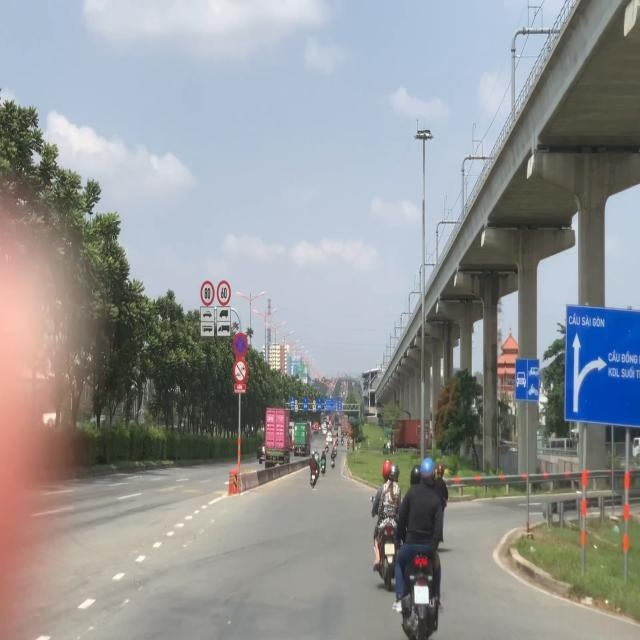bien_nguy_hiem: (216, 280, 232, 306), (233, 332, 248, 358), (200, 280, 215, 306)
